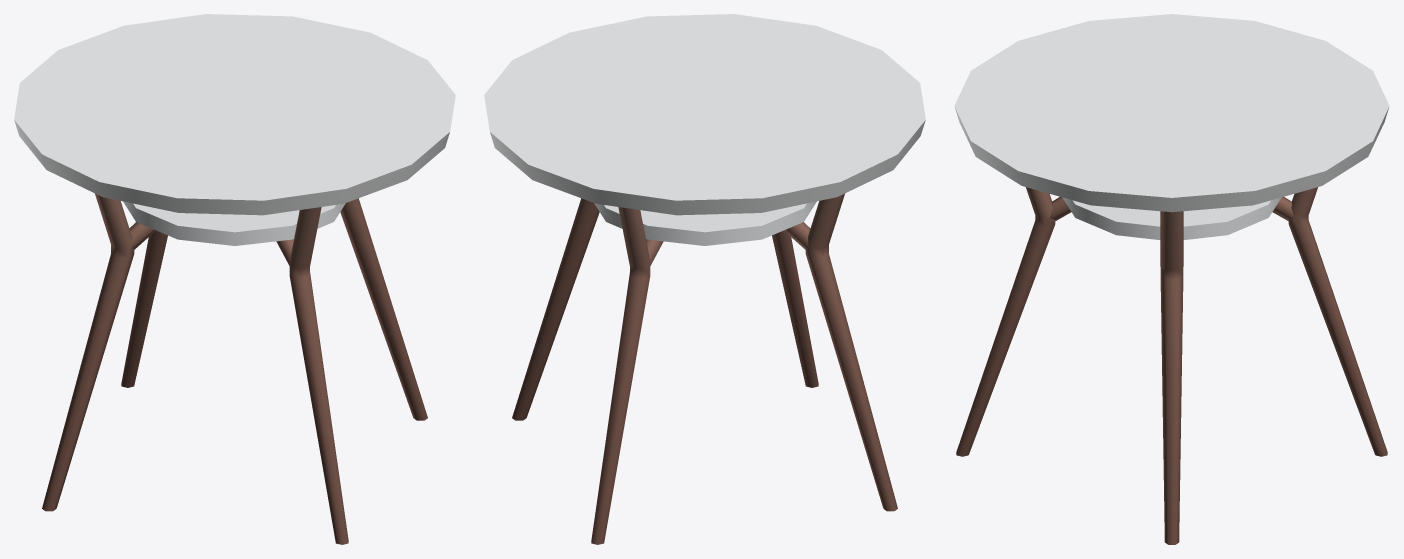
Rendered from Table_01.obj.
3 views of the same model, side by side, from view 1: azimuth 30°, elevation 25°; view 2: azimuth 150°, elevation 25°; view 3: azimuth 270°, elevation 25° (orthographic). The views are drawn at different scales.
Visible parts, largest first — view 1: Table_01; view 2: Table_01; view 3: Table_01.
Boxes of the visible parts, left/top/right/bottom form: Table_01: left=14, top=14, right=455, bottom=544; Table_01: left=484, top=14, right=925, bottom=544; Table_01: left=954, top=14, right=1389, bottom=544.
Size of the model in its own units: 0.9665 by 0.8522 by 0.9665.
Materials: 1 (1 with a texture image).
